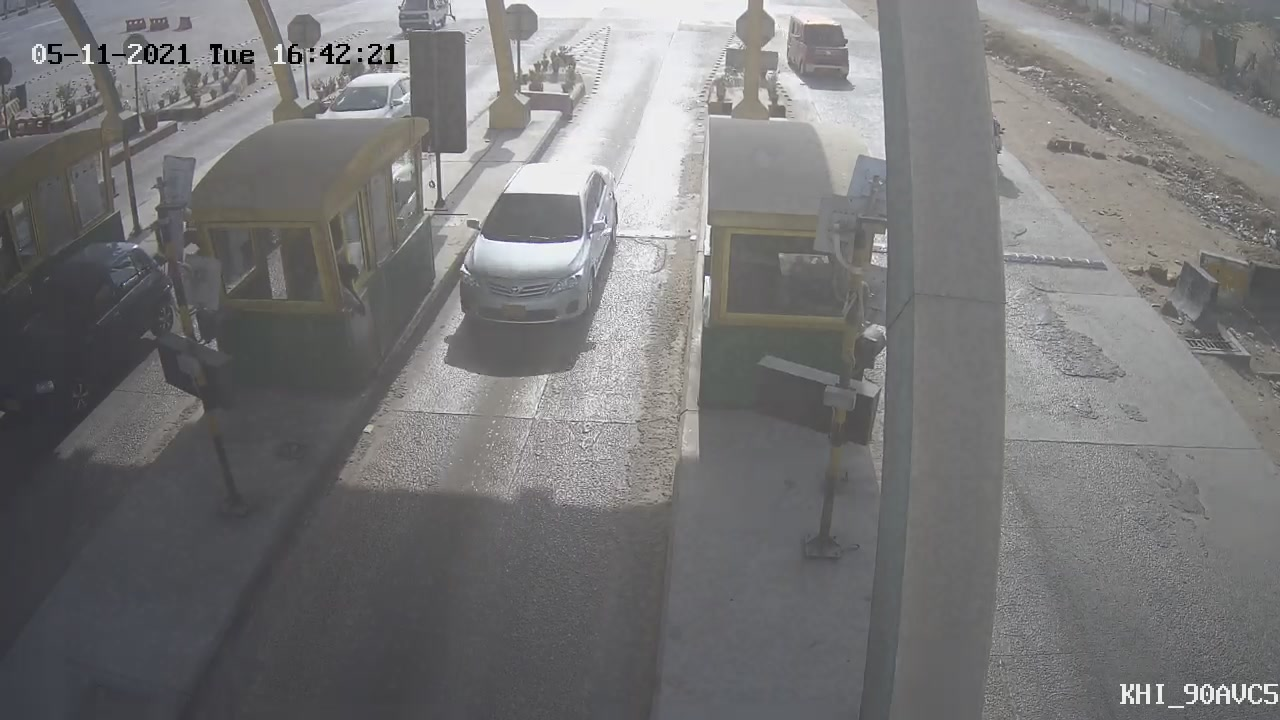F1: (439, 148, 634, 360)
